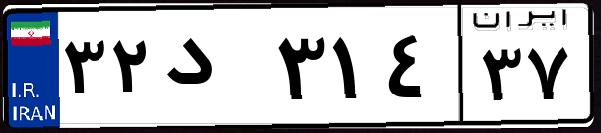1: (330, 28, 385, 110)
2: (110, 28, 158, 98)
3: (270, 28, 330, 110), (57, 26, 110, 100), (475, 38, 525, 113)
4: (385, 28, 445, 110)
7: (525, 38, 570, 115)
د: (158, 20, 270, 120)
